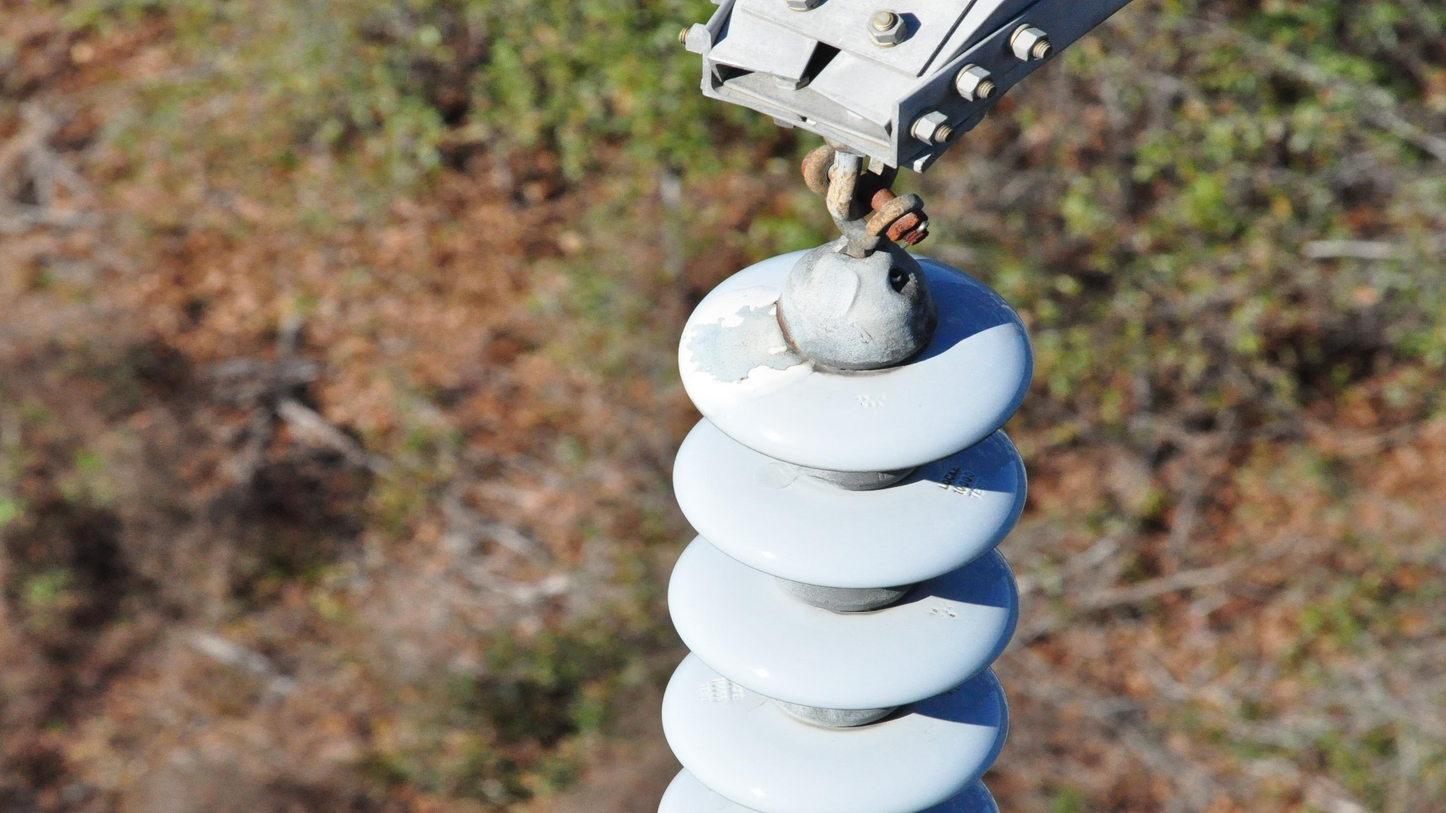insulator: (651, 240, 1037, 813)
